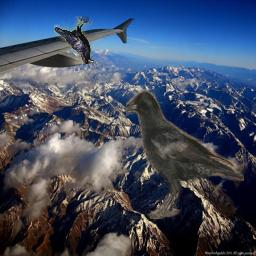Crow: (126, 89, 244, 219), (54, 16, 94, 64)
